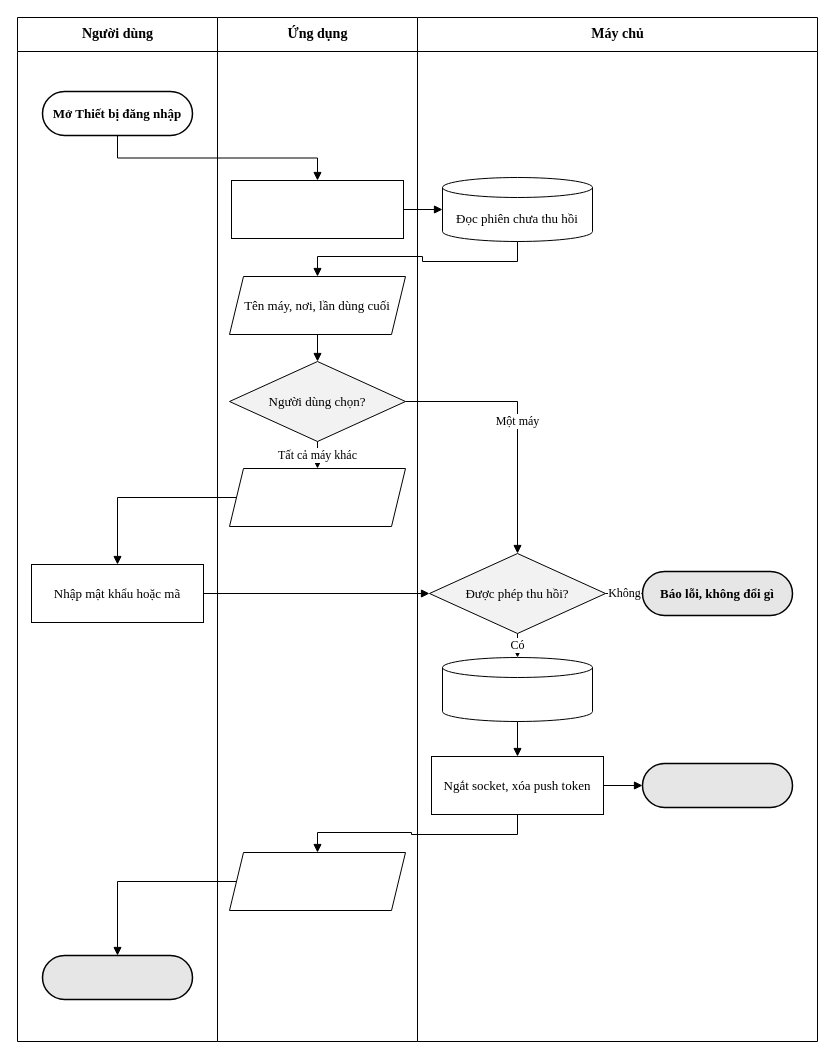
This 835x1059 diagram has some shape labels left out. The centre of each missing label's shape, as x and y in pixels:
"Cập nhật danh sách" belongs at [317,881].
"Ghi revokedAt và lý do" belongs at [517,689].
"Gọi danh sách phiên" belongs at [317,209].
"Hỏi mật khẩu hoặc mã 2FA" belongs at [317,497].
"Máy kia: lần gọi sau 401" belongs at [717,785].
"Máy đó đã bị đăng xuất" belongs at [117,977].
